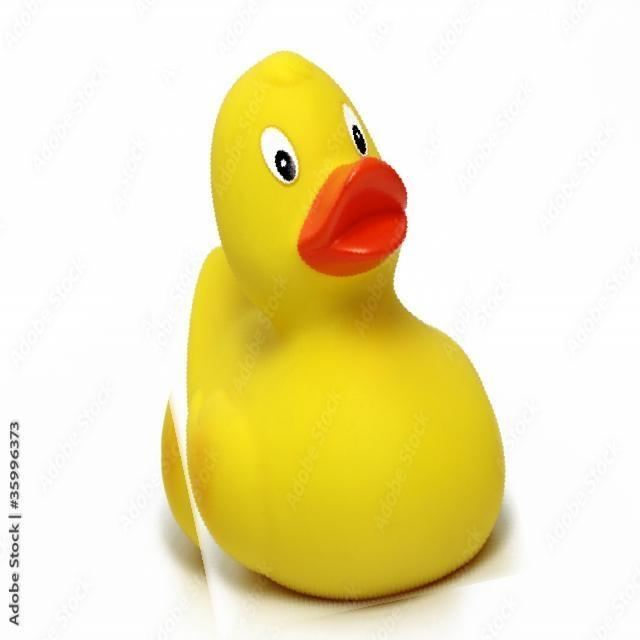rubber-duck: (161, 51, 502, 597)
